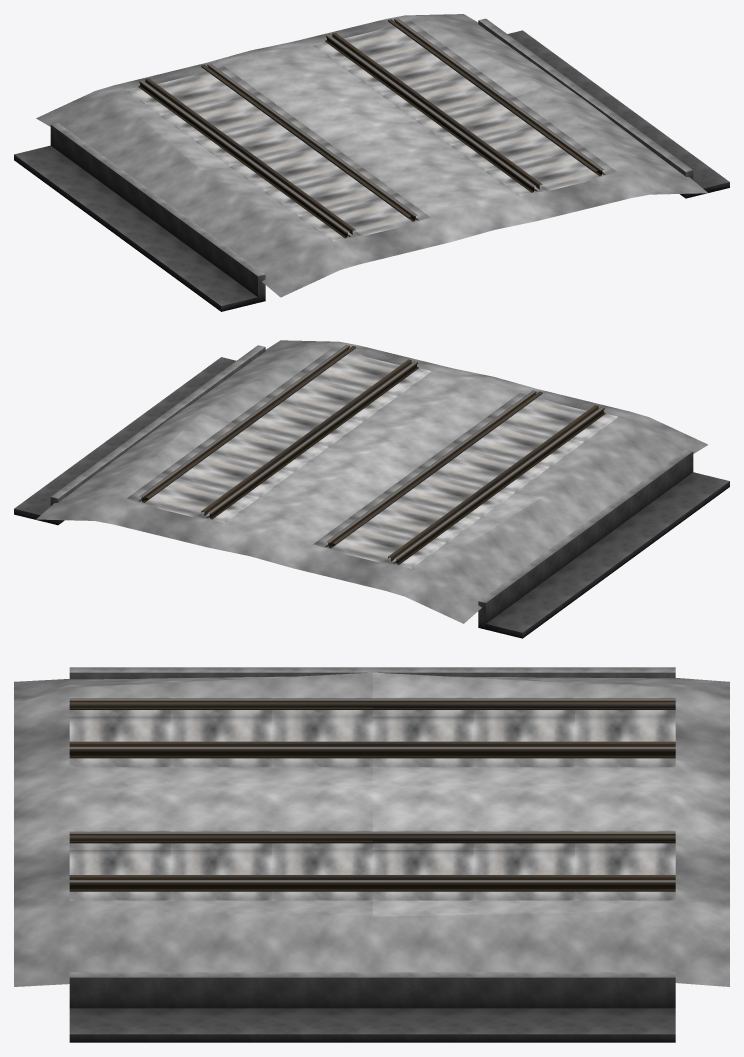
File: HT_2RAIL_25.glb
The picture shows the model from 3 angles, top to bottom: view 1: azimuth 30°, elevation 25°; view 2: azimuth 150°, elevation 25°; view 3: azimuth 270°, elevation 25°; orthographic projection. The views are drawn at different scales.
Parts seen in each view (by area): view 1: Jari_All2, R000_RG_R2, R000_RG_L2; view 2: Jari_All2, R000_RG_R2, R000_RG_L2; view 3: Jari_All2, R000_RG_R2, R000_RG_L2.
Part boxes in pixels (<box>): Jari_All2: <box>14,14,729,311</box>; R000_RG_R2: <box>145,32,542,234</box>; R000_RG_L2: <box>201,19,597,218</box>; Jari_All2: <box>14,340,729,638</box>; R000_RG_R2: <box>201,359,598,561</box>; R000_RG_L2: <box>145,346,542,546</box>; Jari_All2: <box>14,667,729,1042</box>; R000_RG_R2: <box>69,702,675,841</box>; R000_RG_L2: <box>69,741,675,879</box>.
Bounding box in the file's own units: 35.42 × 3.26 × 29.53.
Materials: 8 (8 with a texture image).
